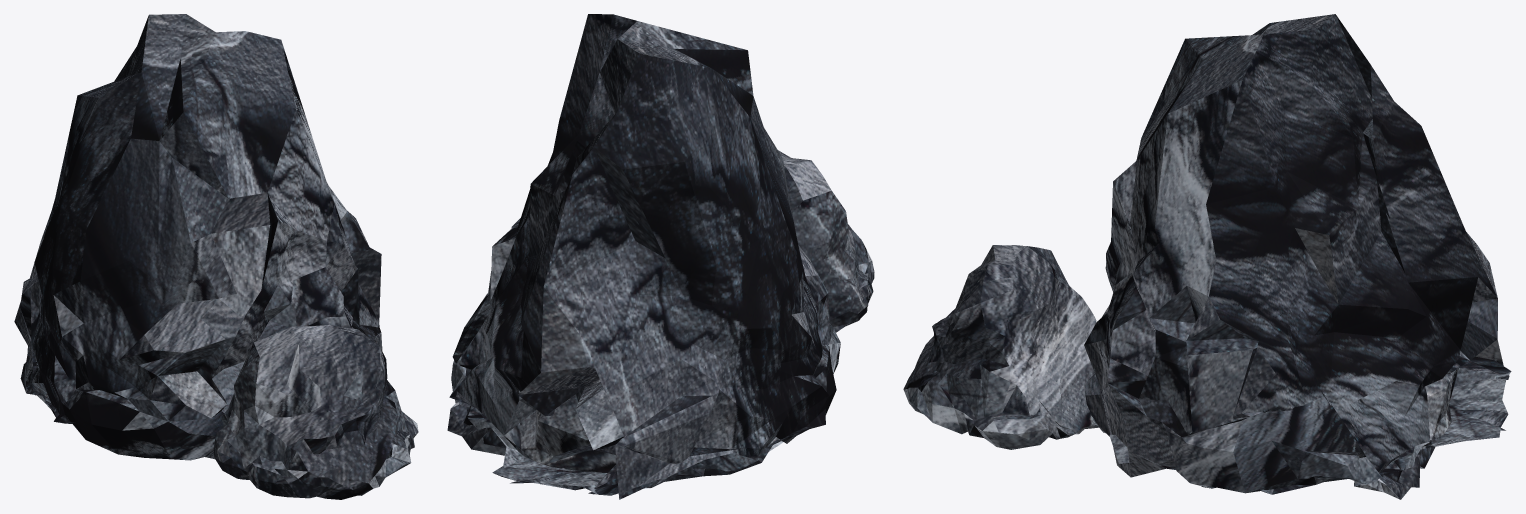
Rendered from rocks2.fbx.
The picture shows the model from 3 angles, left to right: view 1: azimuth 30°, elevation 25°; view 2: azimuth 150°, elevation 25°; view 3: azimuth 270°, elevation 25°; orthographic projection. The views are drawn at different scales.
Visible parts, largest first — view 1: Икосфера.001; view 2: Икосфера.001; view 3: Икосфера.001.
Boxes of the visible parts, x1=… form: Икосфера.001: x1=14, y1=14, x2=418, y2=499; Икосфера.001: x1=447, y1=14, x2=874, y2=499; Икосфера.001: x1=903, y1=14, x2=1511, y2=499.
Bounding box in the file's own units: 348 × 391 × 525.
